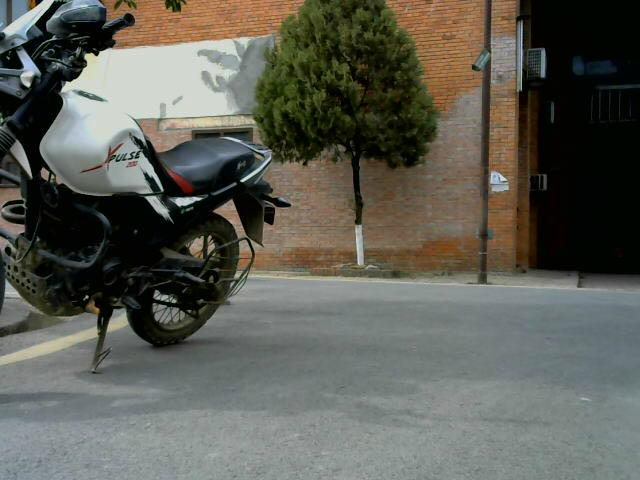Electrical Pole: (471, 0, 504, 287)
Motorcycle: (1, 1, 274, 394)
Road: (154, 273, 639, 480)
Tree: (268, 0, 437, 279)
